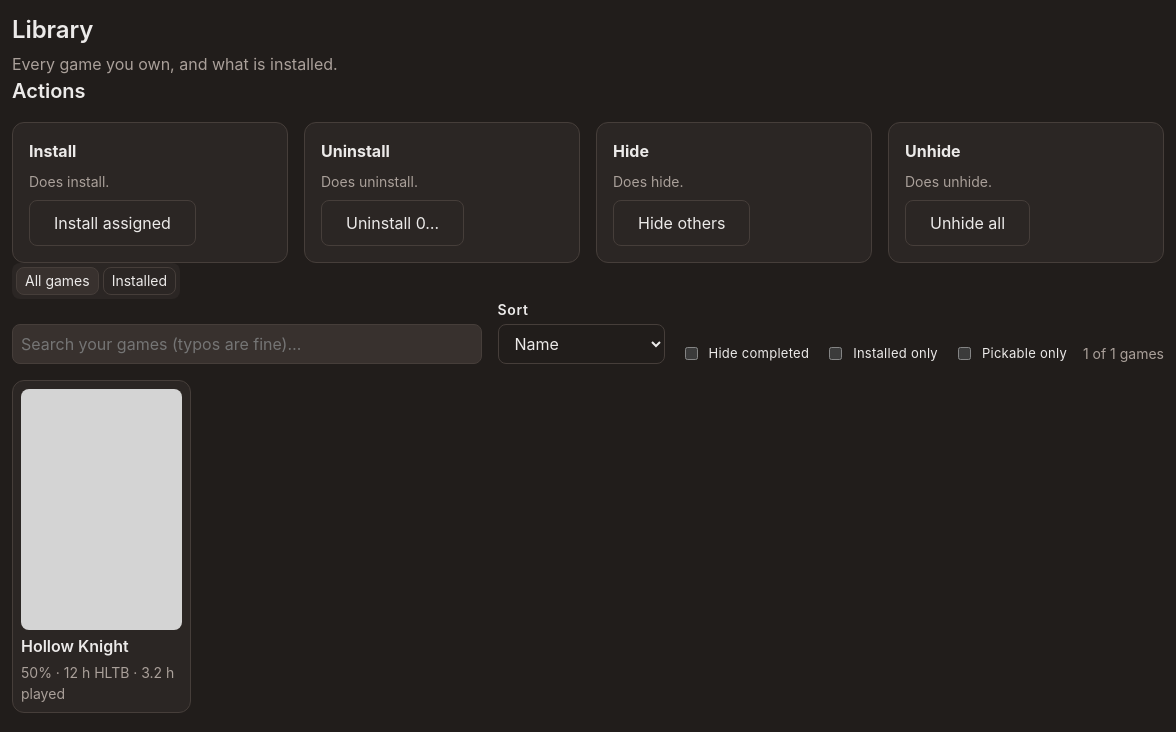
Library › explains a failed installed load
Expected: the text "1 of 1 games" is shown, [1083, 342, 1164, 364]
Click the button "Installed" at (139, 281), box [103, 267, 176, 294]
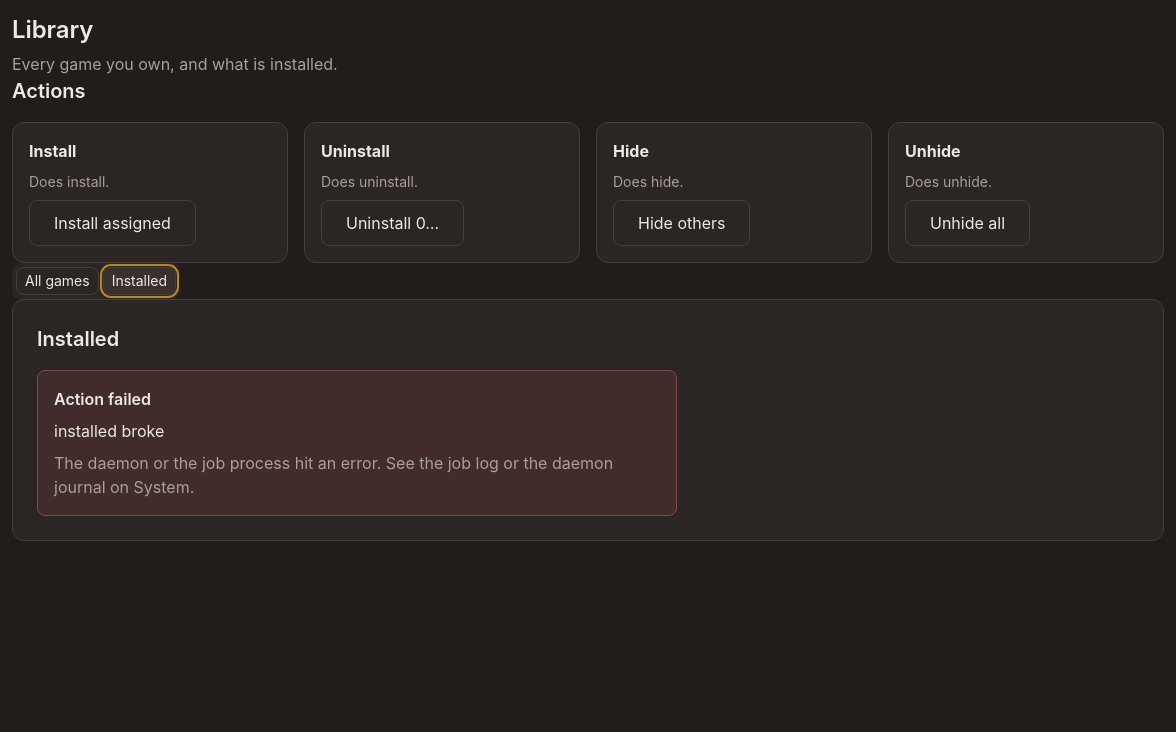
Expected: the text "installed broke" is shown, [54, 420, 164, 440]
